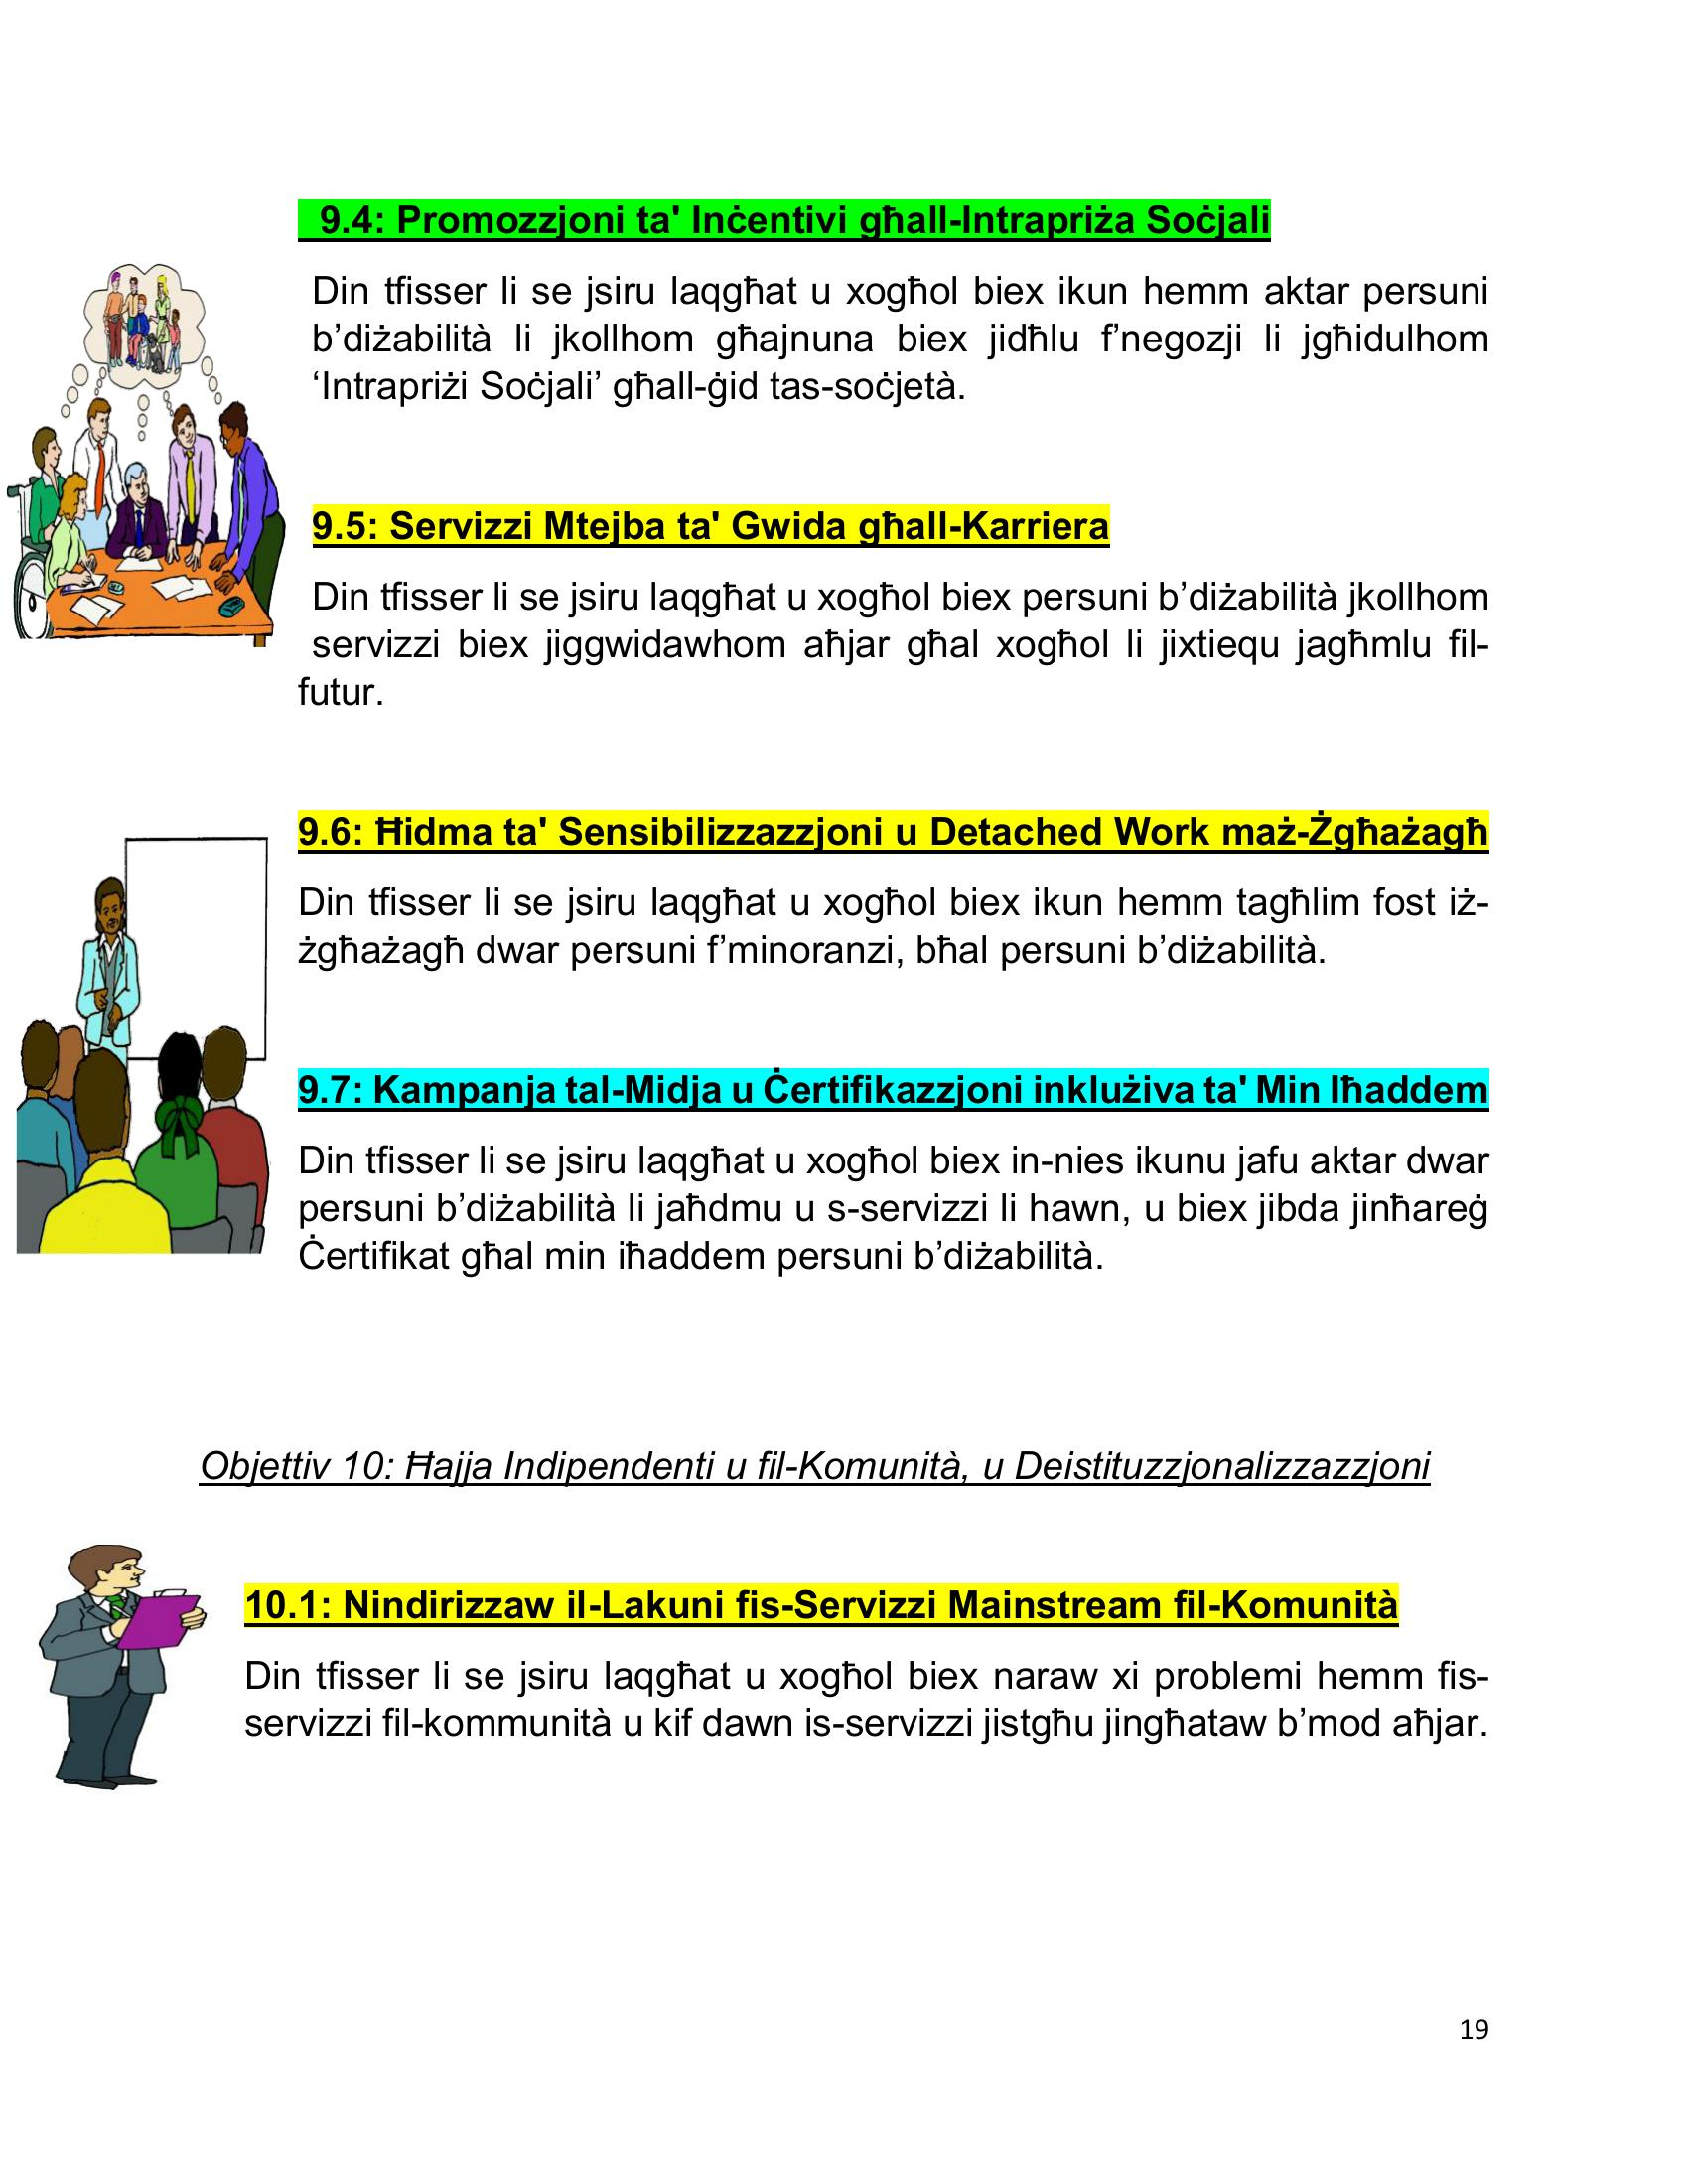text: (184, 156, 1521, 1863)
whiteout: (2, 245, 289, 1333), (2, 1528, 213, 1799)
